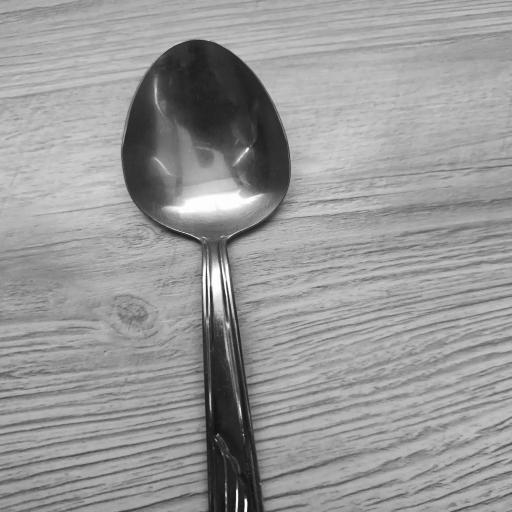spoon: (133, 38, 285, 512)
